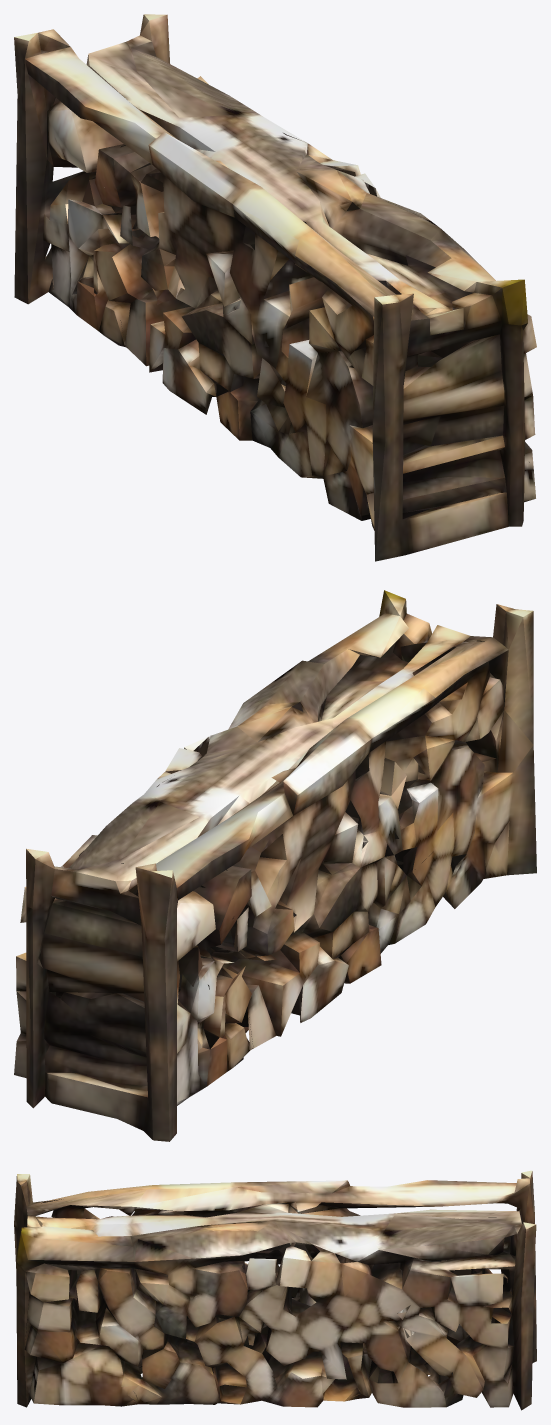
File: prop-woodpile.glb
3 renders of one model, top to bottom at view 1: azimuth 30°, elevation 25°; view 2: azimuth 150°, elevation 25°; view 3: azimuth 270°, elevation 25°, orthographic. The views are drawn at different scales.
Parts seen in each view (by area): view 1: prop-woodpile; view 2: prop-woodpile; view 3: prop-woodpile.
Part boxes in pixels (x1,y1,x2,y2): prop-woodpile: (14, 14, 536, 561); prop-woodpile: (14, 590, 536, 1141); prop-woodpile: (14, 1170, 536, 1410).
Bounding box in the file's own units: 0.8711 × 1.23 × 3.1.
Materials: 1 (1 with a texture image).
